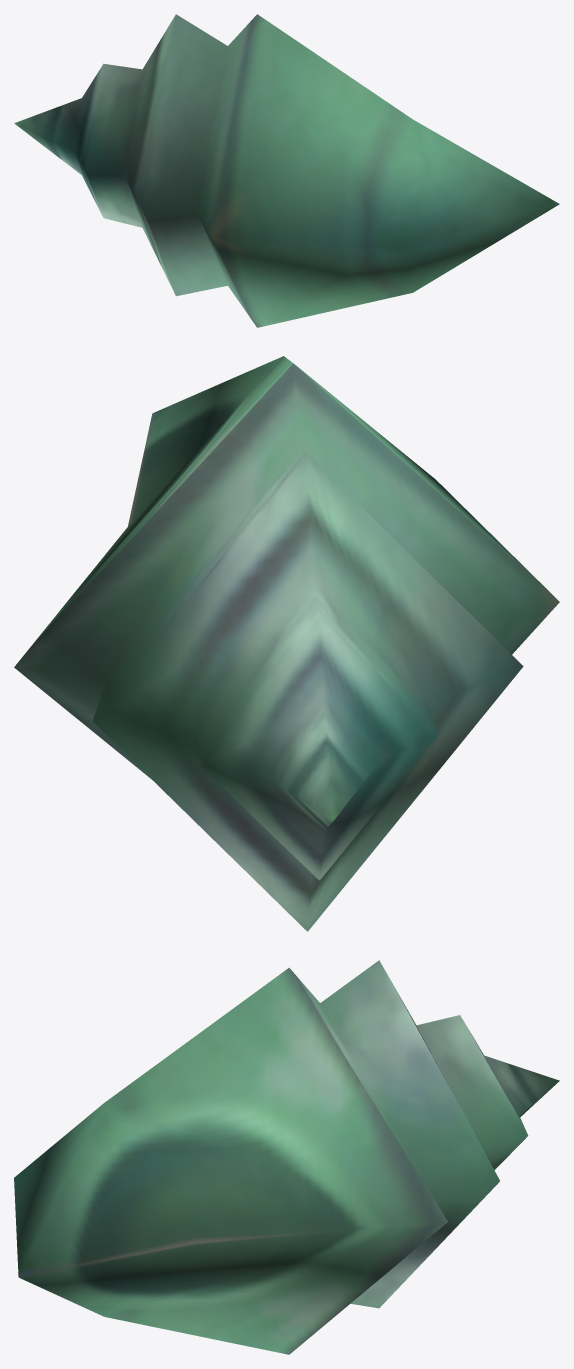
Rendered from sea_etc_12.FBX.
3 views of the same model, one above another, from view 1: azimuth 30°, elevation 25°; view 2: azimuth 150°, elevation 25°; view 3: azimuth 270°, elevation 25° (orthographic). The views are drawn at different scales.
Parts seen in each view (by area): view 1: Object154; view 2: Object154; view 3: Object154.
Boxes of the visible parts, bbox=[...] form: Object154: bbox=[14, 14, 559, 327]; Object154: bbox=[14, 356, 559, 931]; Object154: bbox=[14, 960, 559, 1354].
Size of the model in its own units: 39.38 by 46.19 by 36.15.
